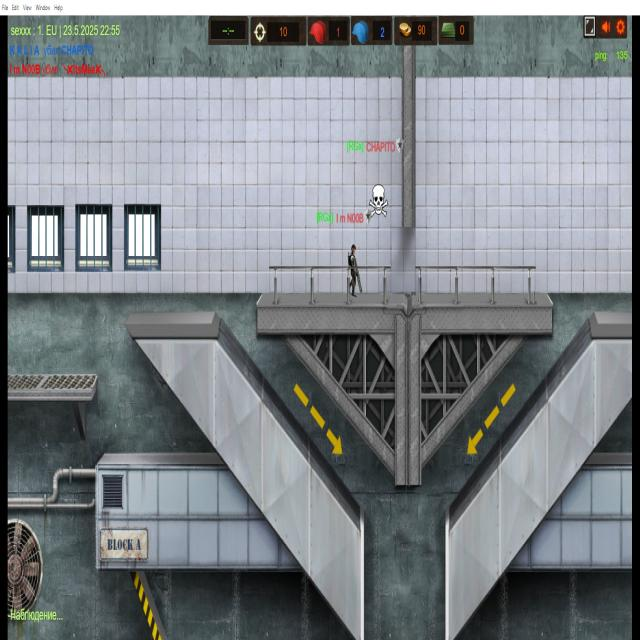enemy: (338, 238, 367, 306)
